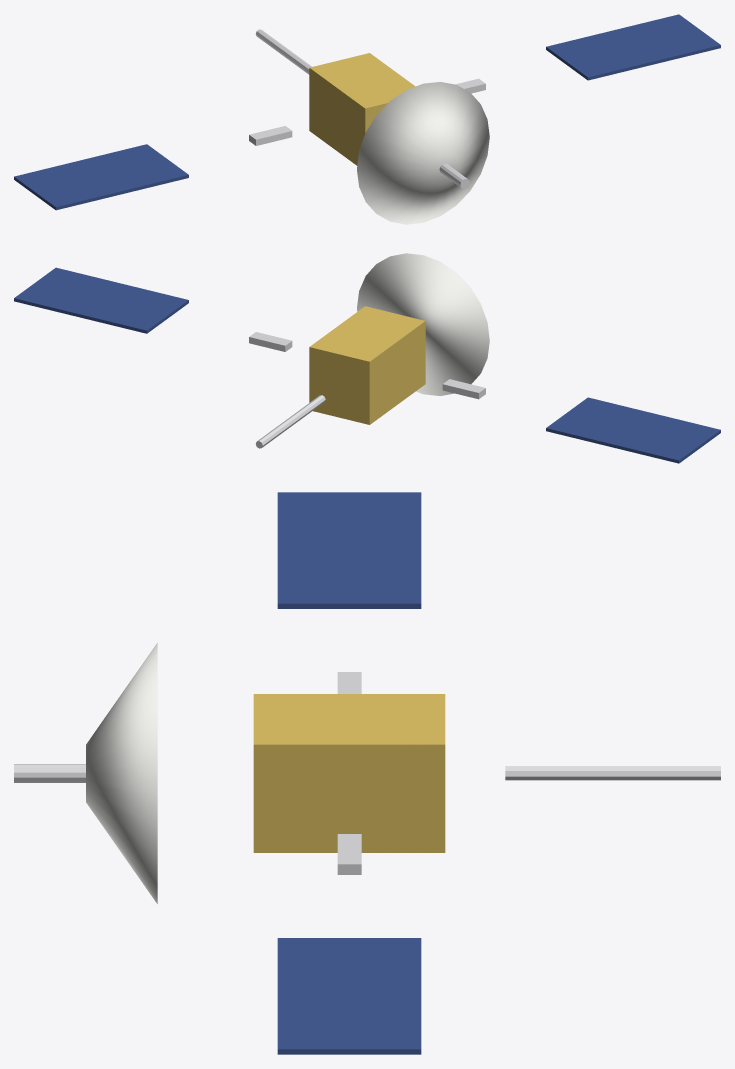
File: satellite.glb
The picture shows the model from 3 angles, top to bottom: view 1: azimuth 30°, elevation 25°; view 2: azimuth 150°, elevation 25°; view 3: azimuth 270°, elevation 25°; orthographic projection. The views are drawn at different scales.
Parts seen in each view (by area): view 1: Satellite; view 2: Satellite; view 3: Satellite.
Part boxes in pixels (x1,y1,x2,y2): Satellite: (14,14,720,224); Satellite: (14,253,720,463); Satellite: (14,492,720,1054).
Bounding box in the file's own units: 0.55 × 0.11 × 0.295.
